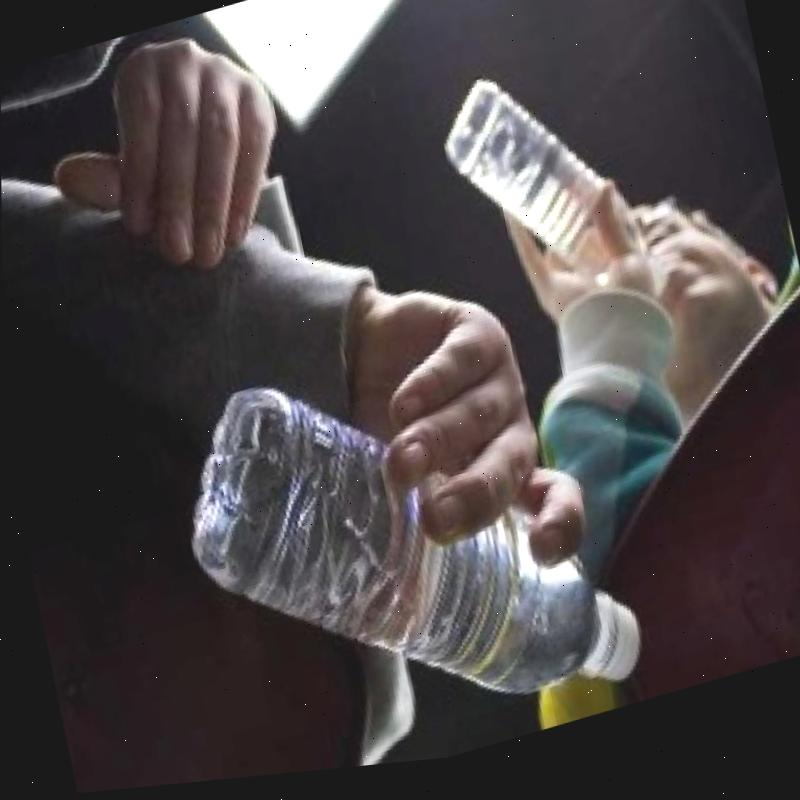botella: (156, 294, 646, 788), (429, 46, 656, 343)
